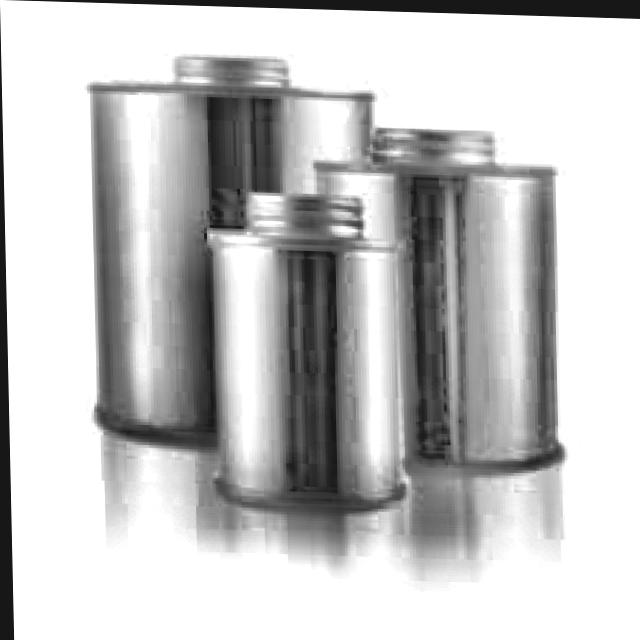can: (78, 44, 388, 458), (303, 114, 570, 484), (196, 182, 414, 520)
